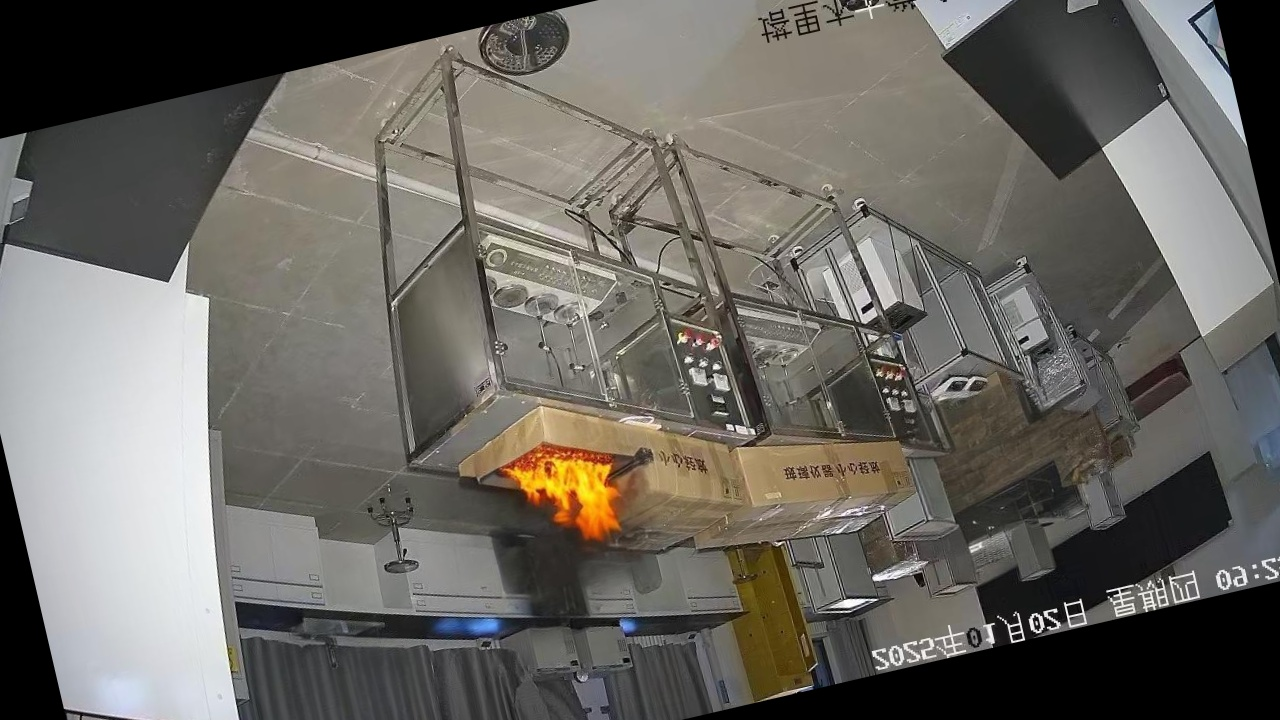fire: (481, 397, 679, 595)
